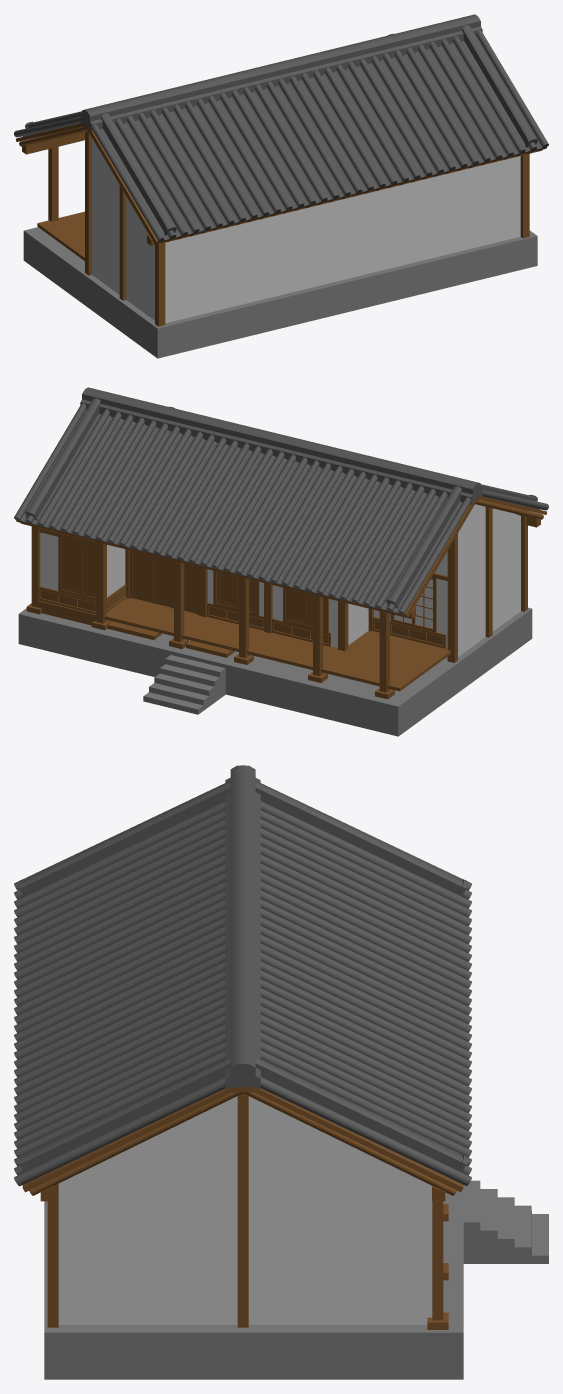
Rendered from mesh_house1.fbx.
3 views of the same model, one above another, from view 1: azimuth 30°, elevation 25°; view 2: azimuth 150°, elevation 25°; view 3: azimuth 270°, elevation 25° (orthographic). The views are drawn at different scales.
Parts seen in each view (by area): view 1: small_pagoda_04_roof, small_pagoda_04_wall, small_pagoda_04_stone, small_pagoda_04_wood; view 2: small_pagoda_04_roof, small_pagoda_04_wood, small_pagoda_04_stone, small_pagoda_04_wall; view 3: small_pagoda_04_roof, small_pagoda_04_wall, small_pagoda_04_stone, small_pagoda_04_wood.
Boxes of the visible parts, x1=… form: small_pagoda_04_roof: x1=14, y1=14, x2=548, y2=241; small_pagoda_04_wall: x1=92, y1=138, x2=520, y2=323; small_pagoda_04_stone: x1=23, y1=227, x2=537, y2=358; small_pagoda_04_wood: x1=16, y1=123, x2=546, y2=326; small_pagoda_04_roof: x1=14, y1=387, x2=548, y2=614; small_pagoda_04_wood: x1=16, y1=496, x2=546, y2=699; small_pagoda_04_stone: x1=18, y1=607, x2=532, y2=736; small_pagoda_04_wall: x1=40, y1=504, x2=520, y2=659; small_pagoda_04_roof: x1=14, y1=765, x2=471, y2=1186; small_pagoda_04_wall: x1=58, y1=1096, x2=432, y2=1324; small_pagoda_04_stone: x1=44, y1=1180, x2=548, y2=1379; small_pagoda_04_wood: x1=22, y1=1087, x2=463, y2=1329.
Size of the model in its own units: 19.21 by 9.57 by 14.56.
